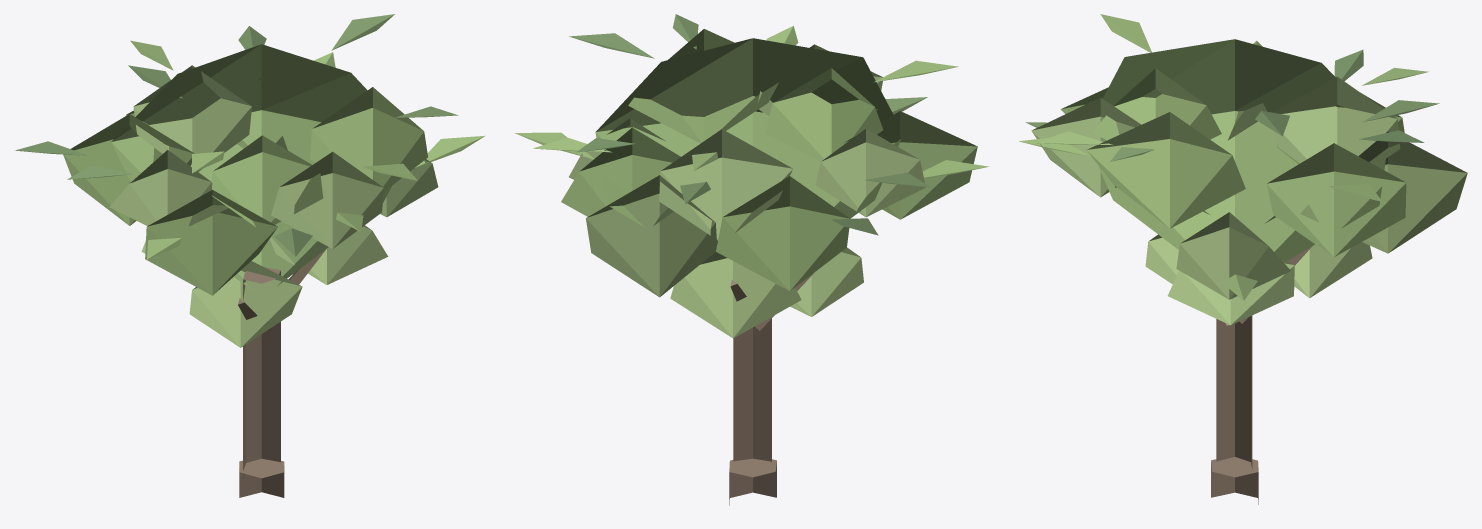
Rendered from shu.xiangzhang__spring.glb.
3 views of the same model, side by side, from view 1: azimuth 30°, elevation 25°; view 2: azimuth 150°, elevation 25°; view 3: azimuth 270°, elevation 25° (orthographic). The views are drawn at different scales.
Visible parts, largest first — view 1: shu.xiangzhang__spring; view 2: shu.xiangzhang__spring; view 3: shu.xiangzhang__spring.
Boxes of the visible parts, x1,y1,x2,y2 form: shu.xiangzhang__spring: (15,14,485,497); shu.xiangzhang__spring: (515,14,988,505); shu.xiangzhang__spring: (1019,14,1467,504).
Bounding box in the file's own units: 17.03 × 17.47 × 15.63.
